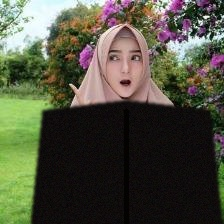Cadar_Niqab: (31, 19, 222, 224)
